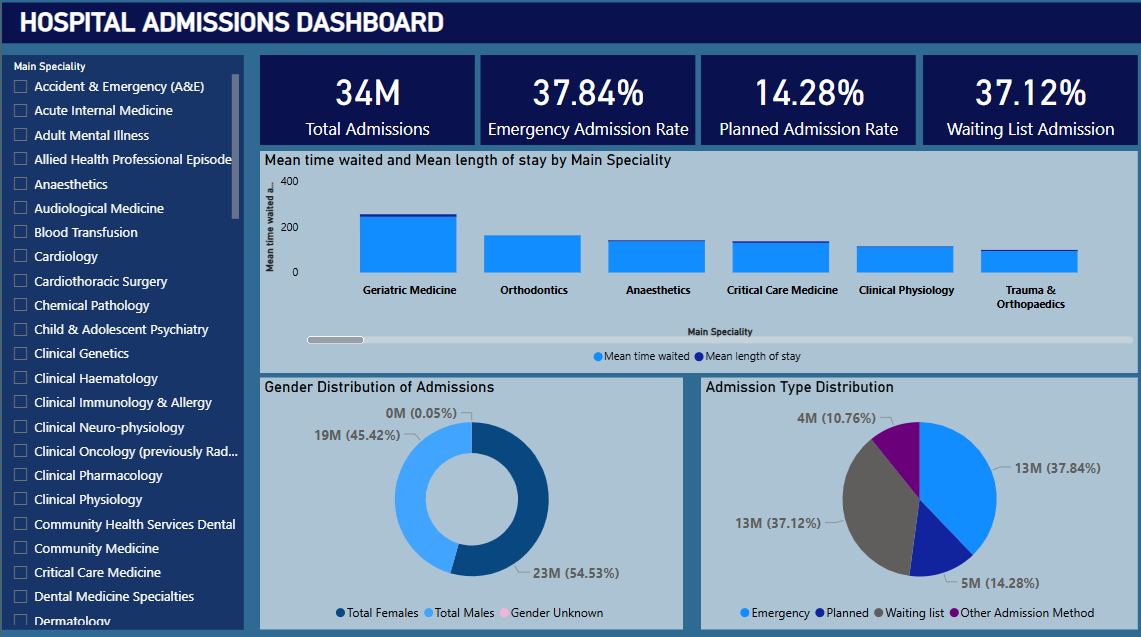

The page's visual inventory and layout, read from the dashboard file:
{"tool":"powerbi","page":{"name":"Page 1","canvas":[1280,720],"ordinal":0},"visuals":[{"type":"card","fields":{"Values":["Sum(dataset_hospital_admissions.Admissions)"]},"box":[286.4,70,238.3,100],"z":0},{"type":"textbox","box":[0,11.7,1280,45],"z":1000},{"type":"card","fields":{"Values":["dataset_hospital_admissions.emergency admission rate"]},"box":[531.5,70,238.3,100],"z":2000},{"type":"slicer","fields":{"Values":["dataset_hospital_admissions.Main Speciality"]},"box":[0,70,268.3,638.3],"z":3000},{"type":"card","fields":{"Values":["dataset_hospital_admissions.Planned Admission Rate"]},"box":[776.5,70,238.3,100],"z":4000},{"type":"card","fields":{"Values":["dataset_hospital_admissions.Waiting List Admission"]},"box":[1023.2,70,238.3,100],"z":5000},{"type":"donutChart","title":"Gender Distribution of Admissions","fields":{"Y":["Sum(dataset_hospital_admissions.Female)","Sum(dataset_hospital_admissions.Male)","Sum(dataset_hospital_admissions.Gender Unknown)"]},"box":[286.7,428.3,470,280],"z":6000},{"type":"columnChart","fields":{"Category":["dataset_hospital_admissions.Main Speciality"],"Y":["Sum(dataset_hospital_admissions.Mean time waited)","Sum(dataset_hospital_admissions.Mean length of stay)"]},"box":[286.7,176.7,975,246.7],"z":7000},{"type":"pieChart","title":"Admission Type Distribution","fields":{"Y":["Sum(dataset_hospital_admissions.Emergency)","Sum(dataset_hospital_admissions.Planned)","Sum(dataset_hospital_admissions.Waiting list)","Sum(dataset_hospital_admissions.Other Admission Method)"]},"box":[776.7,428.3,485,280],"z":8000}]}

Visuals, with their boxes in screenshot pixels (x1, y1, x2, y2), scaled from the page's 1280x720 canvas onto the 1141x637 screenshot:
card - Sum(dataset_hospital_admissions.Admissions): 255/62/468/150
textbox: 0/10/1140/50
card - dataset_hospital_admissions.emergency admission rate: 474/62/686/150
slicer - dataset_hospital_admissions.Main Speciality: 0/62/239/627
card - dataset_hospital_admissions.Planned Admission Rate: 692/62/905/150
card - dataset_hospital_admissions.Waiting List Admission: 912/62/1125/150
"Gender Distribution of Admissions" donutChart: 256/379/675/627
columnChart - dataset_hospital_admissions.Main Speciality x Sum(dataset_hospital_admissions.Mean time waited): 256/156/1125/375
"Admission Type Distribution" pieChart: 692/379/1125/627
